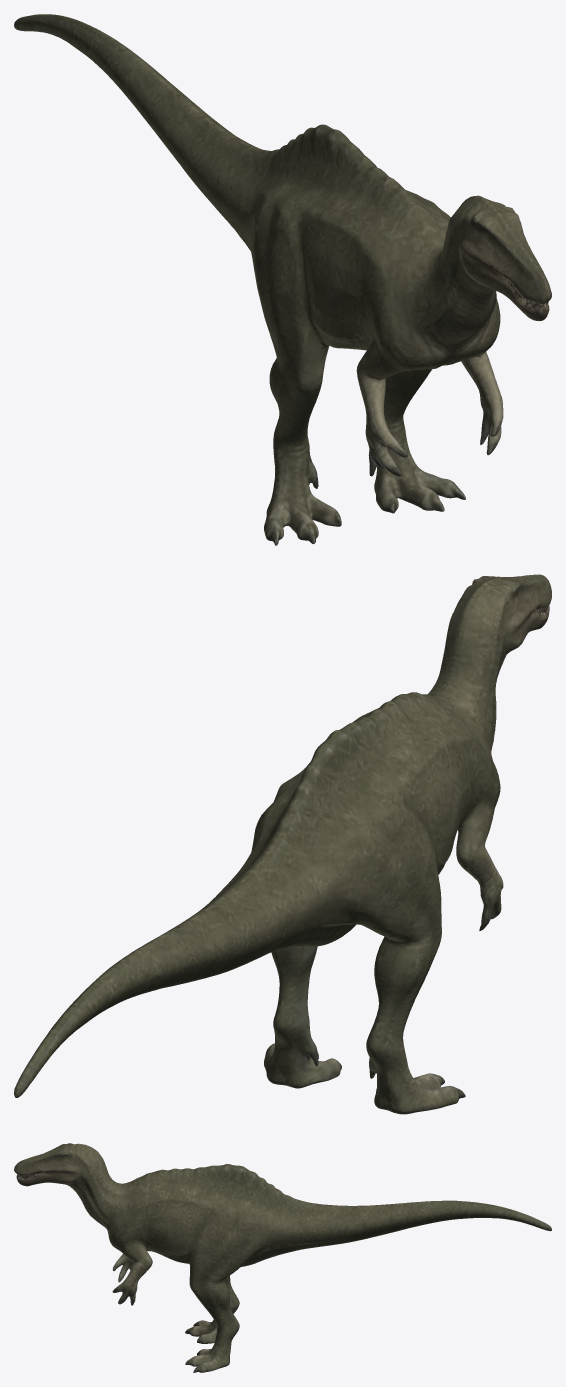
The model's file is Spinosaurus.glb.
3 views of the same model, one above another, from view 1: azimuth 30°, elevation 25°; view 2: azimuth 150°, elevation 25°; view 3: azimuth 270°, elevation 25° (orthographic). The views are drawn at different scales.
Bounding box in the file's own units: 0.3921 × 0.8043 × 1.9.
1 material, 1 textured.
